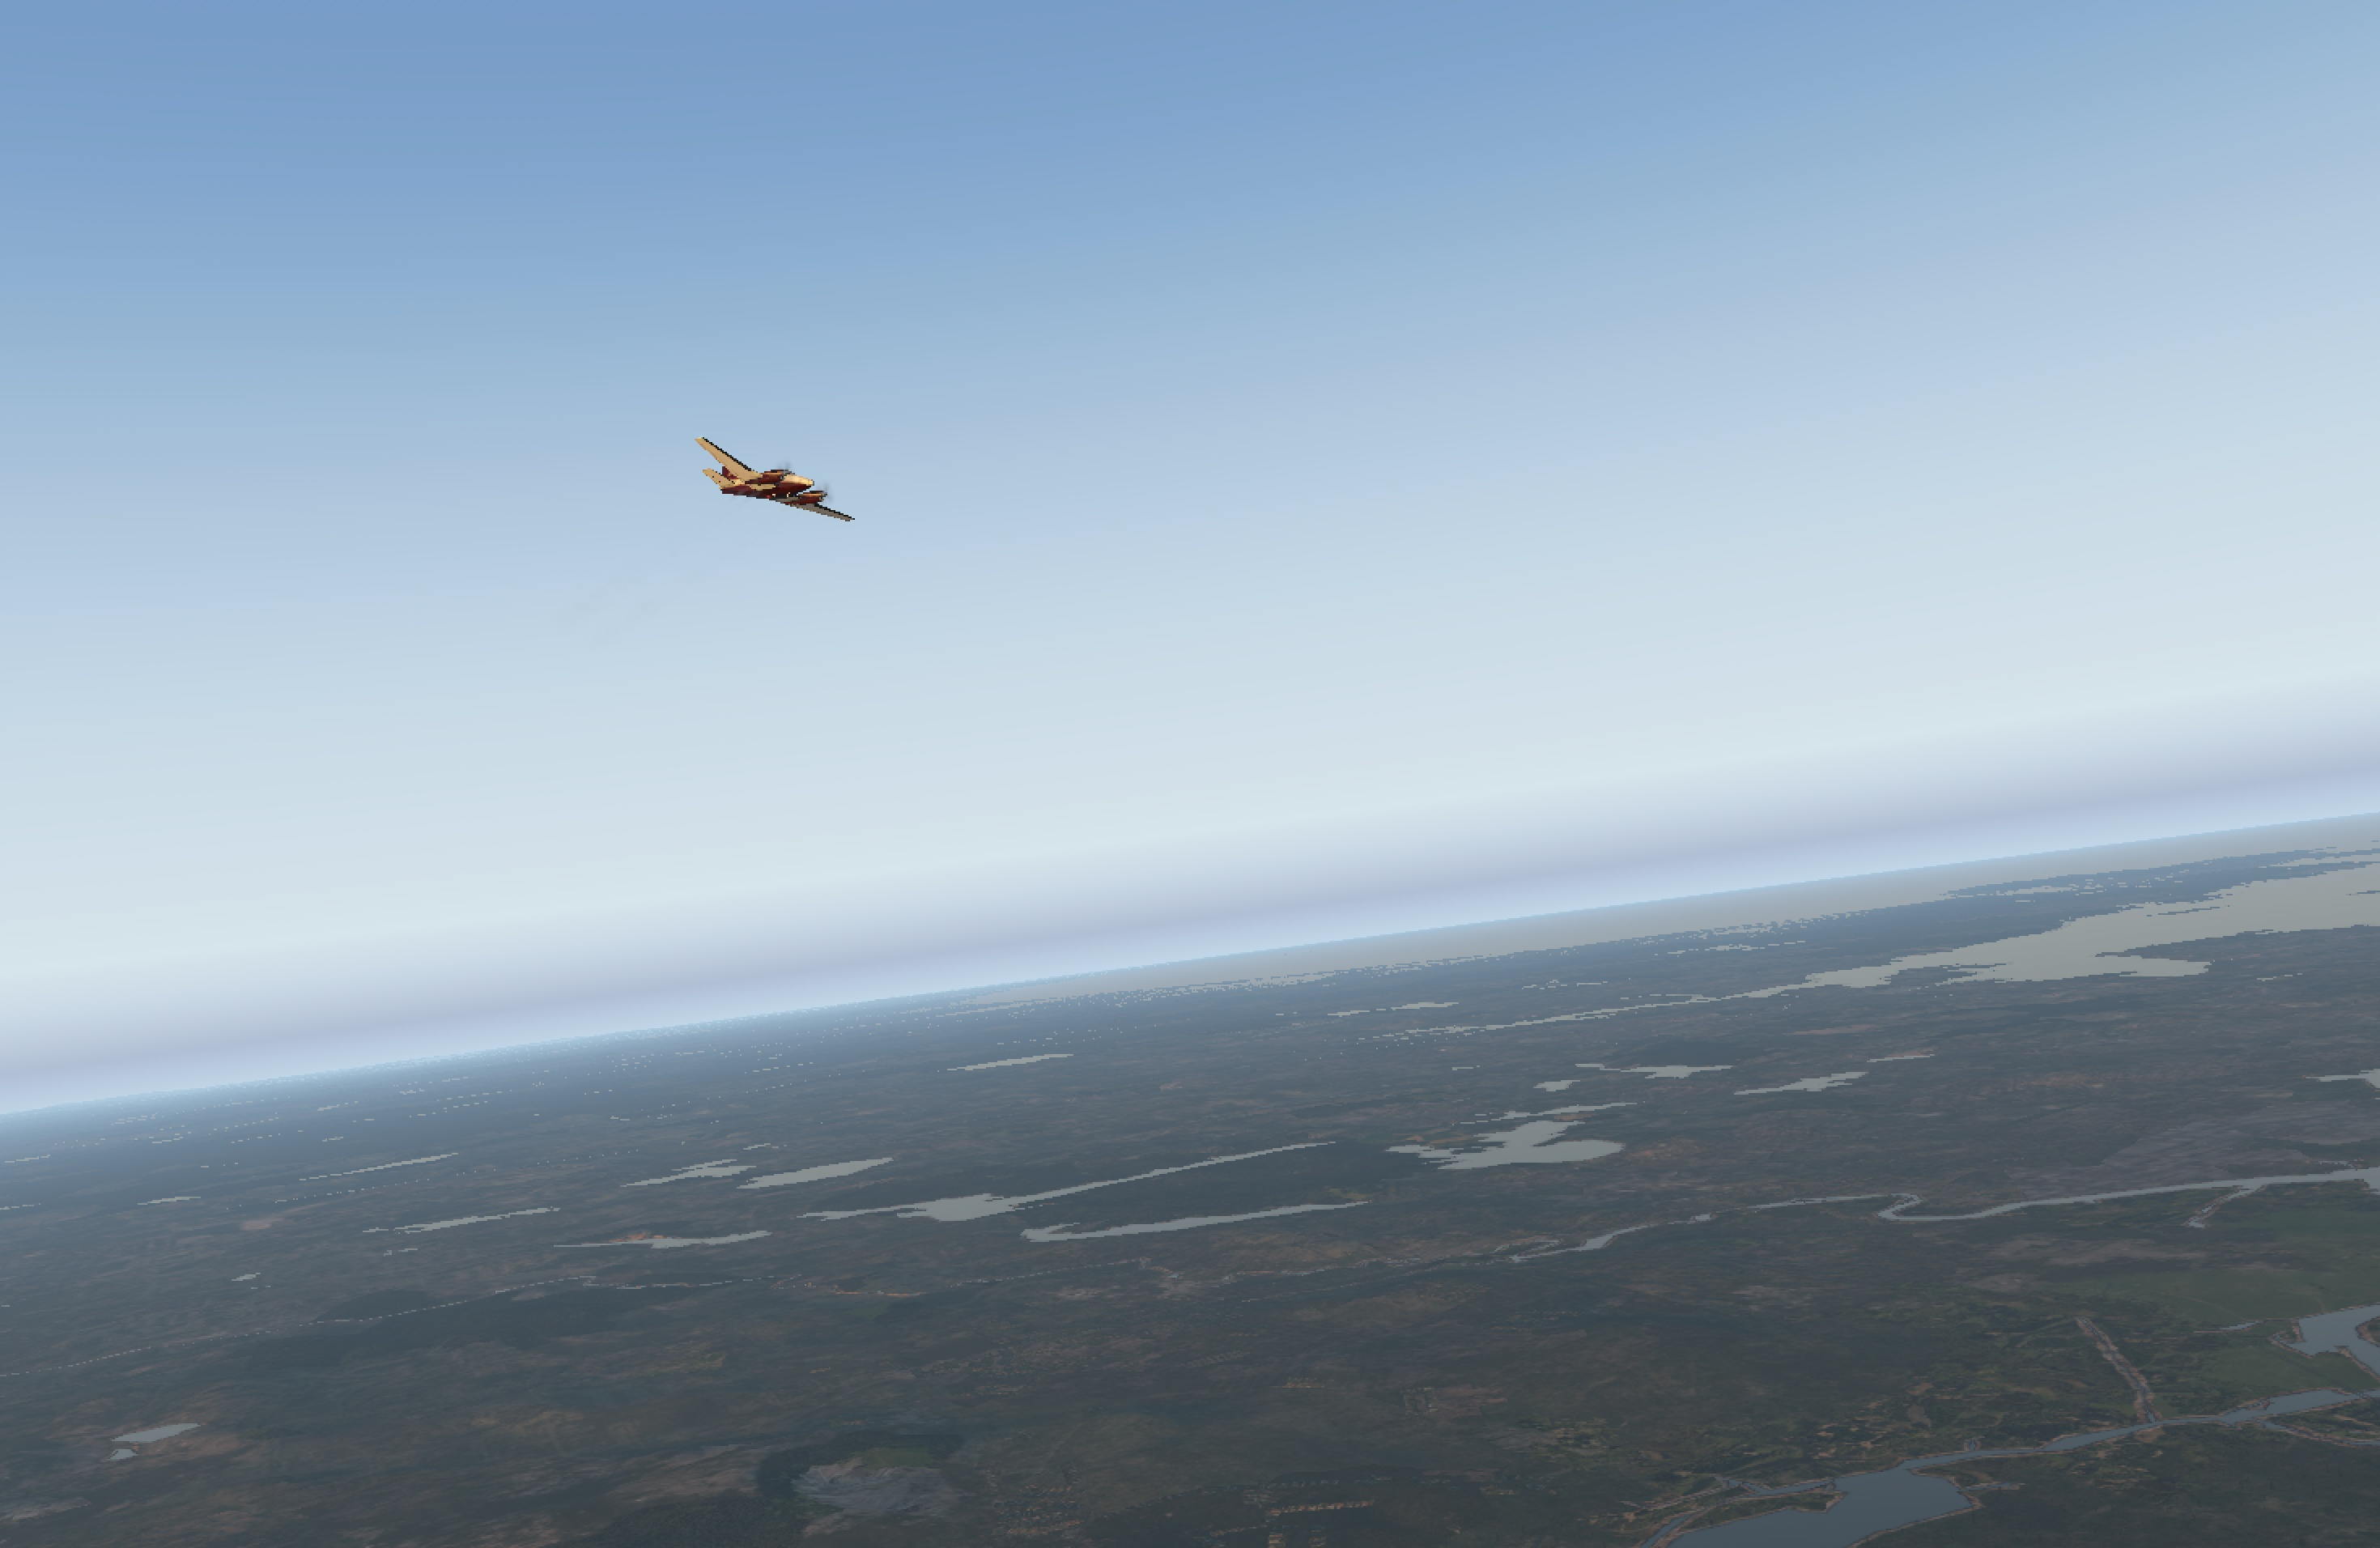aircraft: (677, 453, 883, 531)
